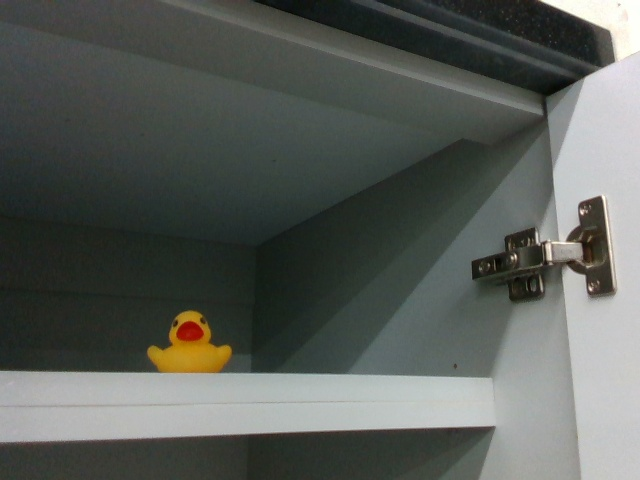duck: (145, 311, 234, 375)
